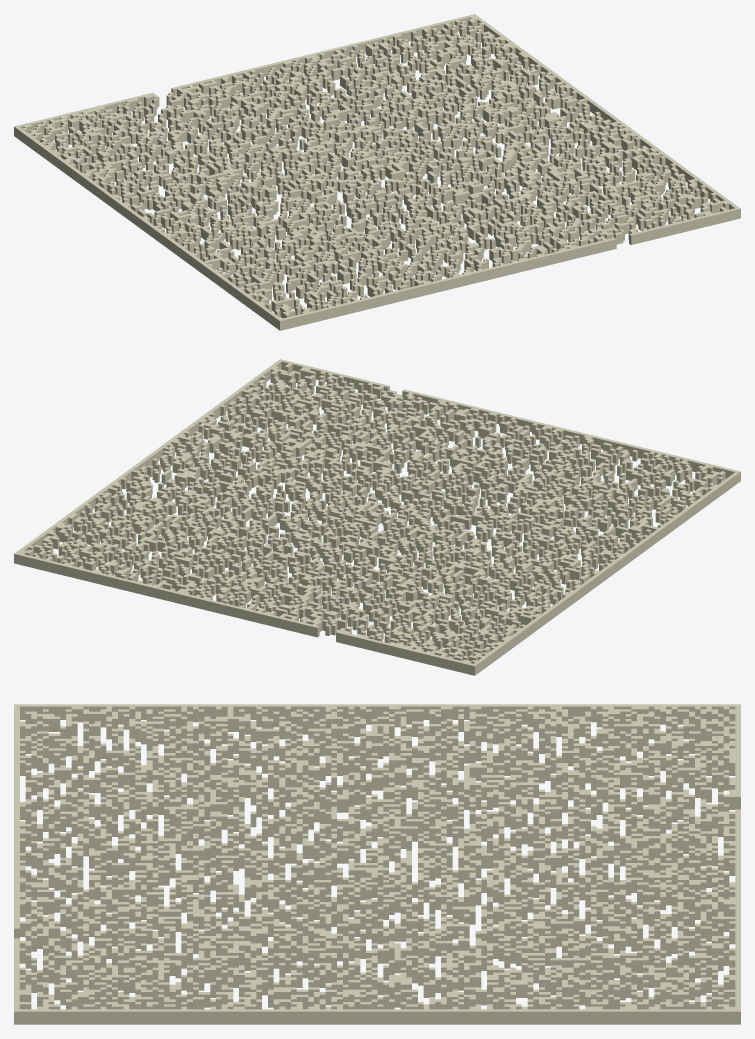
Rendered from LabyrinthFinal.fbx.
The picture shows the model from 3 angles, top to bottom: view 1: azimuth 30°, elevation 25°; view 2: azimuth 150°, elevation 25°; view 3: azimuth 270°, elevation 25°; orthographic projection. The views are drawn at different scales.
Visible parts, largest first — view 1: wall_Clone_; view 2: wall_Clone_; view 3: wall_Clone_.
Boxes of the visible parts, x1,y1,x2,y2 form: wall_Clone_: (14, 14, 740, 330); wall_Clone_: (14, 359, 740, 675); wall_Clone_: (14, 704, 740, 1024).
Size of the model in its own units: 25200 by 507 by 25201.
